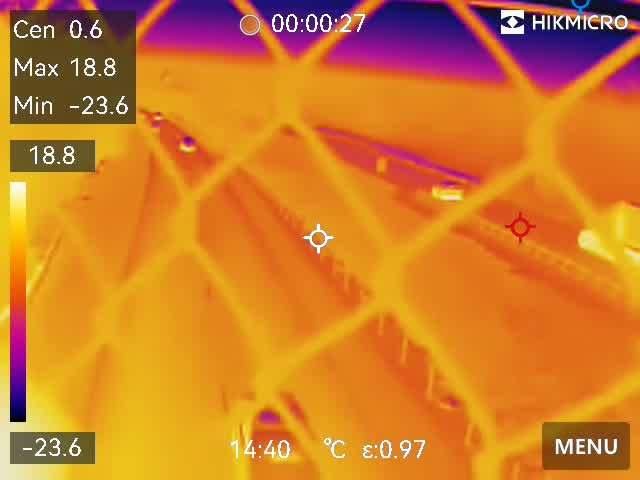vehicle: (222, 383, 323, 480), (428, 179, 470, 201), (178, 132, 200, 158), (150, 110, 169, 123)
